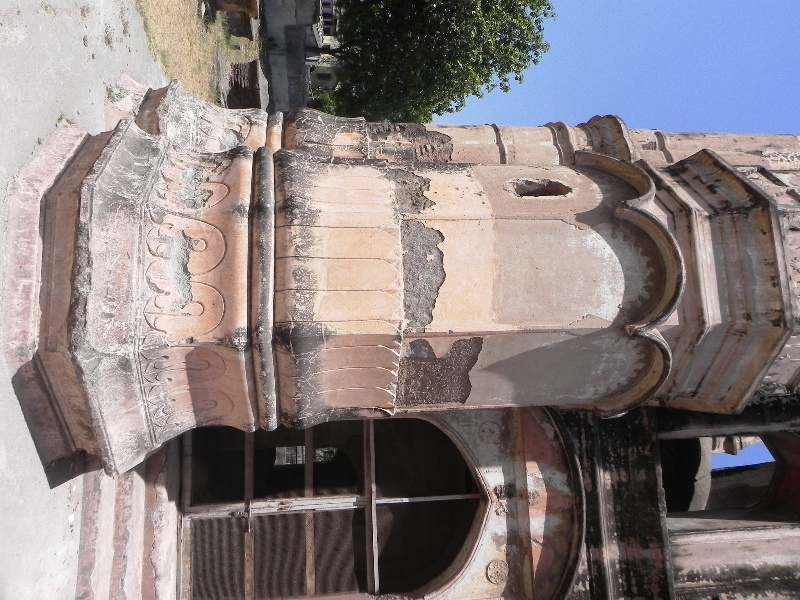Spalling: (396, 334, 486, 408), (399, 218, 449, 330), (369, 121, 453, 166), (167, 228, 199, 312), (386, 166, 437, 218)
